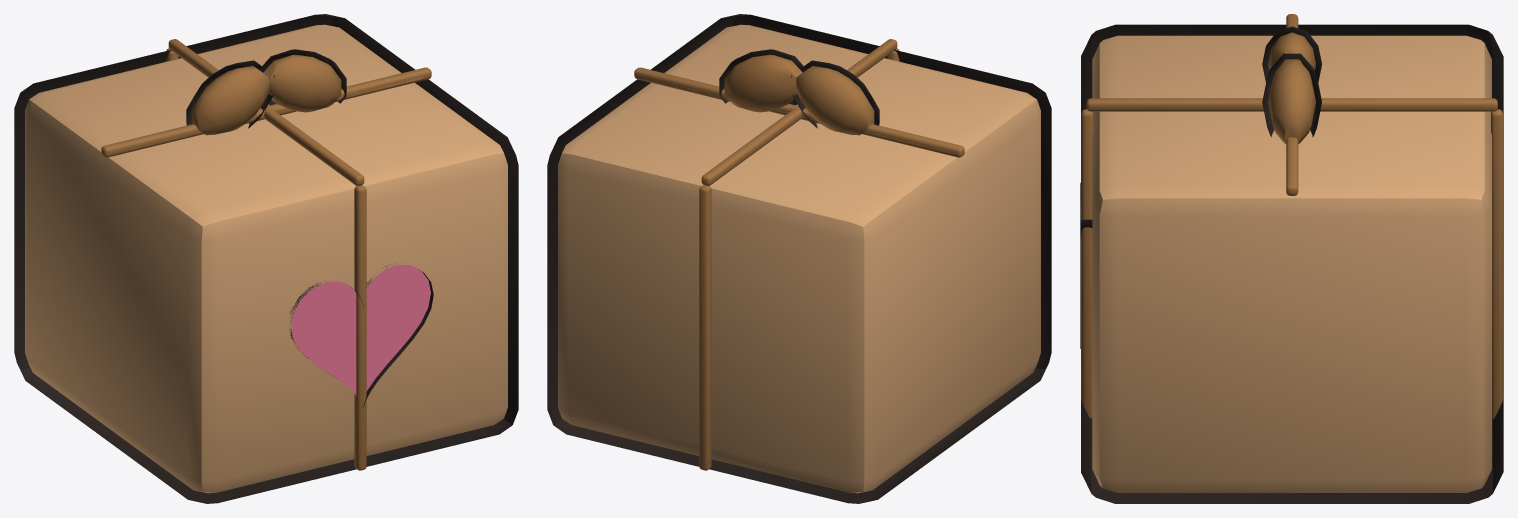
Rendered from parcel_heart.fbx.
3 views of the same model, side by side, from view 1: azimuth 30°, elevation 25°; view 2: azimuth 150°, elevation 25°; view 3: azimuth 270°, elevation 25° (orthographic). The views are drawn at different scales.
Visible parts, largest first — view 1: parcel_heart_C_D9A877, parcel_heart_Outline, parcel_heart_C_A0703F, parcel_heart_C_F27B9C; view 2: parcel_heart_C_D9A877, parcel_heart_Outline, parcel_heart_C_A0703F; view 3: parcel_heart_C_D9A877, parcel_heart_C_A0703F, parcel_heart_Outline.
Part boxes in pixels (x1=…): parcel_heart_C_D9A877: x1=25, y1=24, x2=507, y2=493; parcel_heart_Outline: x1=14, y1=14, x2=518, y2=503; parcel_heart_C_A0703F: x1=101, y1=39, x2=431, y2=470; parcel_heart_C_F27B9C: x1=291, y1=264, x2=430, y2=395; parcel_heart_C_D9A877: x1=558, y1=24, x2=1040, y2=493; parcel_heart_Outline: x1=547, y1=14, x2=1051, y2=503; parcel_heart_C_A0703F: x1=634, y1=39, x2=964, y2=470; parcel_heart_C_D9A877: x1=1092, y1=35, x2=1491, y2=492; parcel_heart_C_A0703F: x1=1081, y1=14, x2=1502, y2=418; parcel_heart_Outline: x1=1080, y1=24, x2=1503, y2=503.
Bounding box in the file's own units: 0.4232 × 0.423 × 0.4236.
